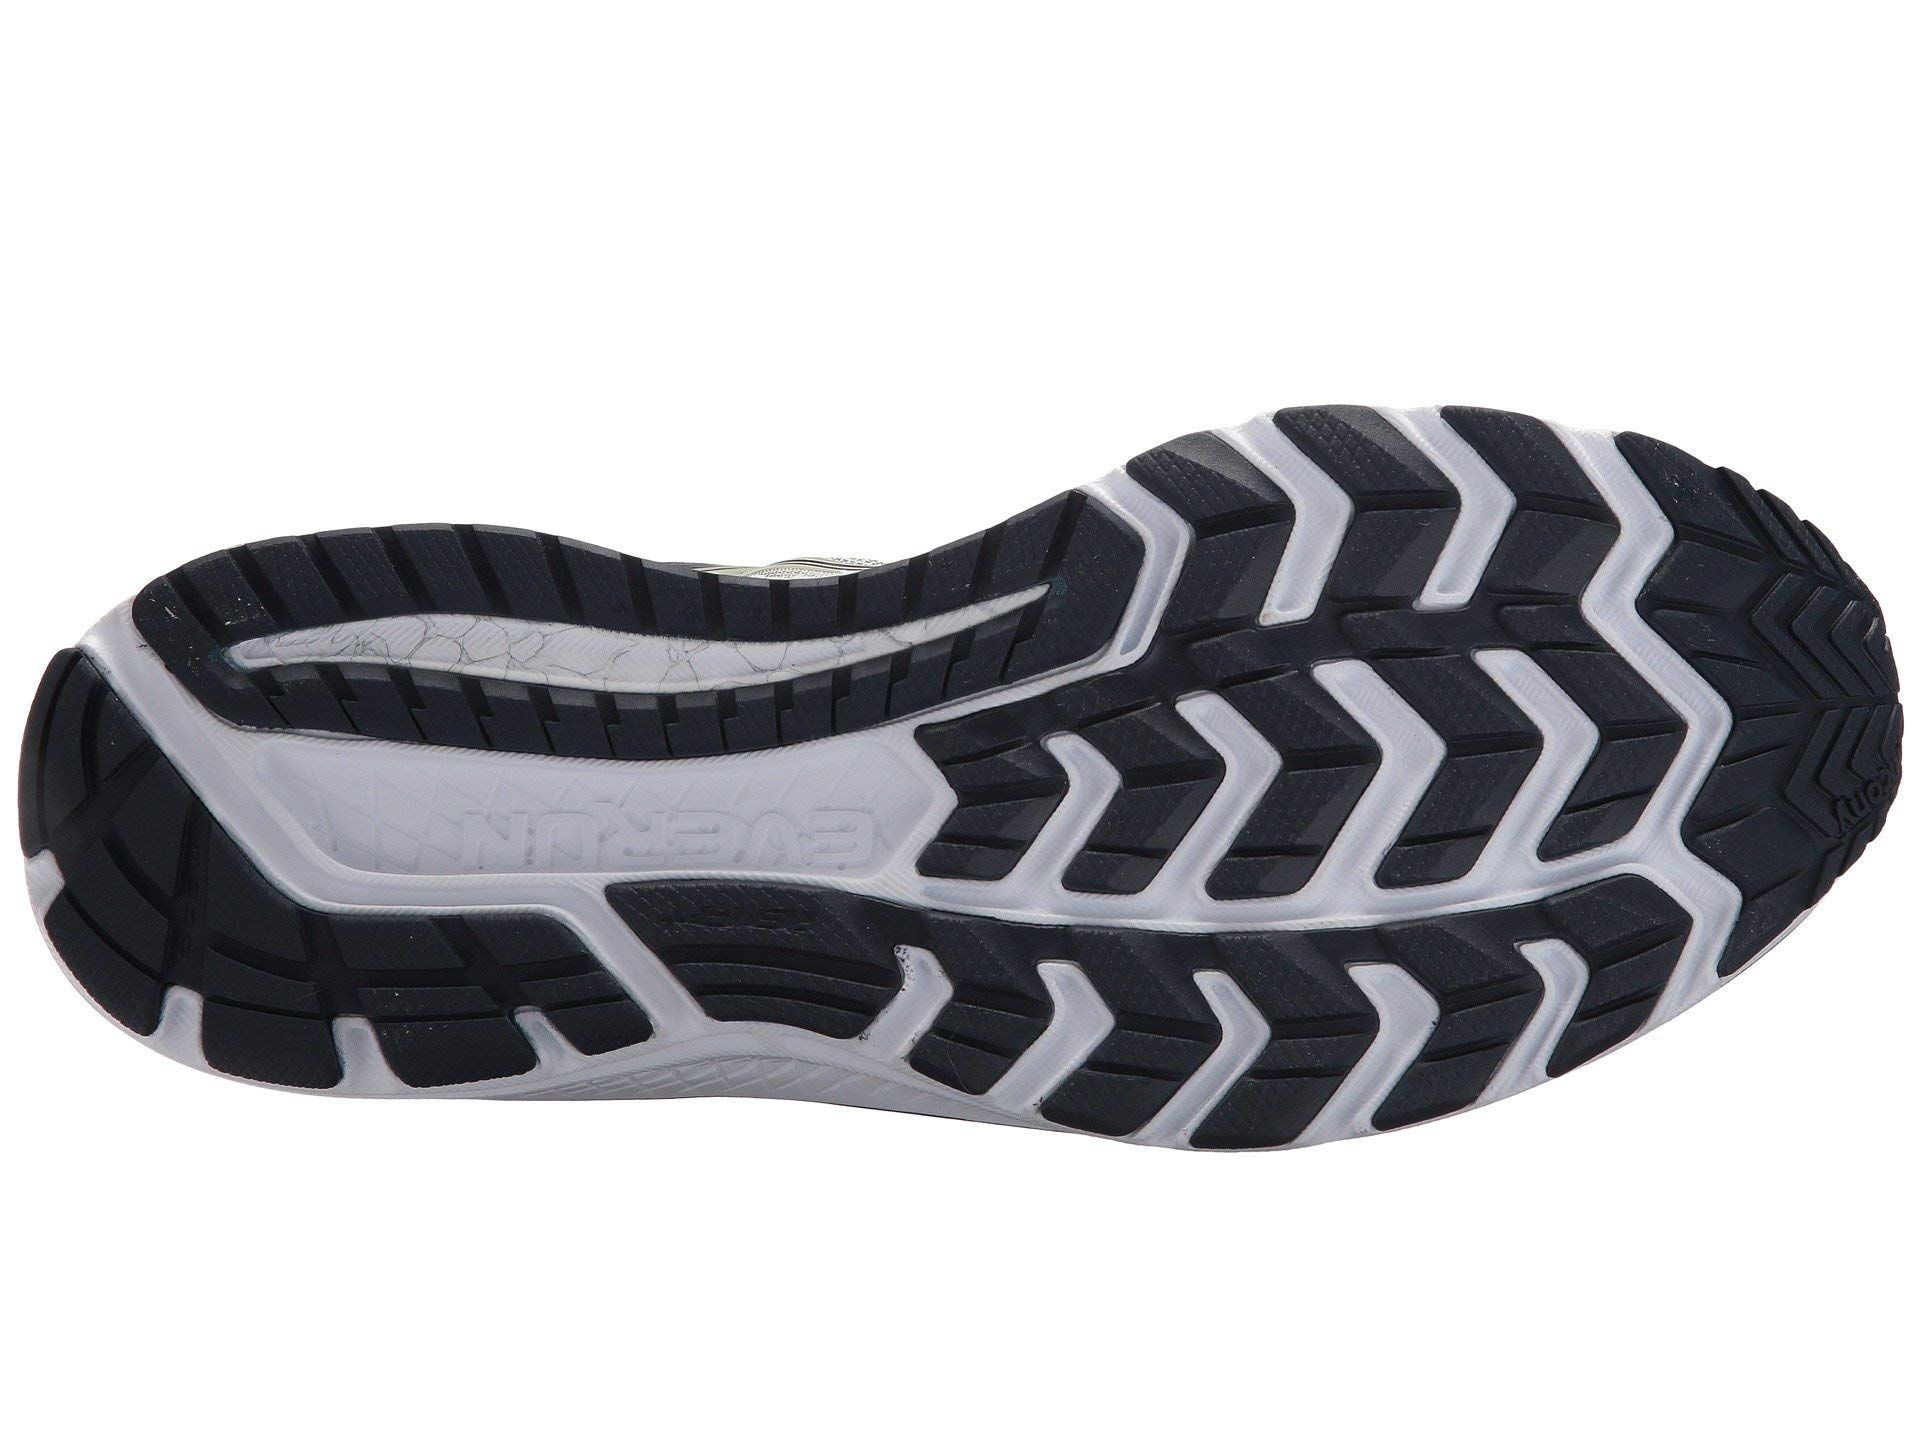chevron: (1135, 656, 1606, 1048), (447, 767, 900, 994), (1707, 551, 1914, 762)
line: (1135, 656, 1606, 1048), (447, 767, 900, 994)
quad: (1135, 656, 1606, 1048), (447, 767, 900, 994), (181, 525, 420, 768), (1707, 551, 1914, 762)
text: (447, 767, 900, 994), (1820, 768, 1914, 852)
